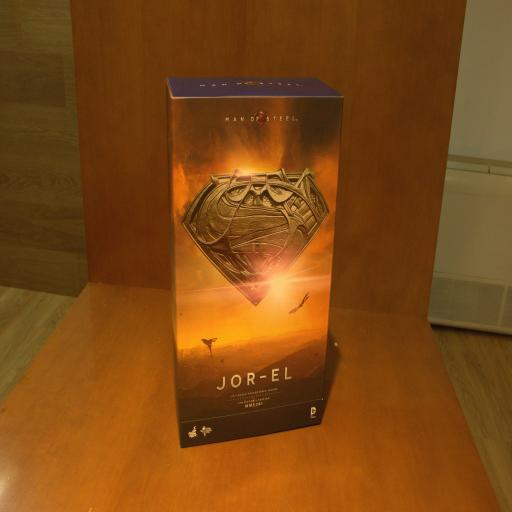superman: (165, 76, 342, 449)
